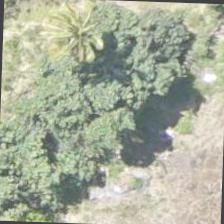Kelapa_Sawit: (27, 0, 121, 78)
